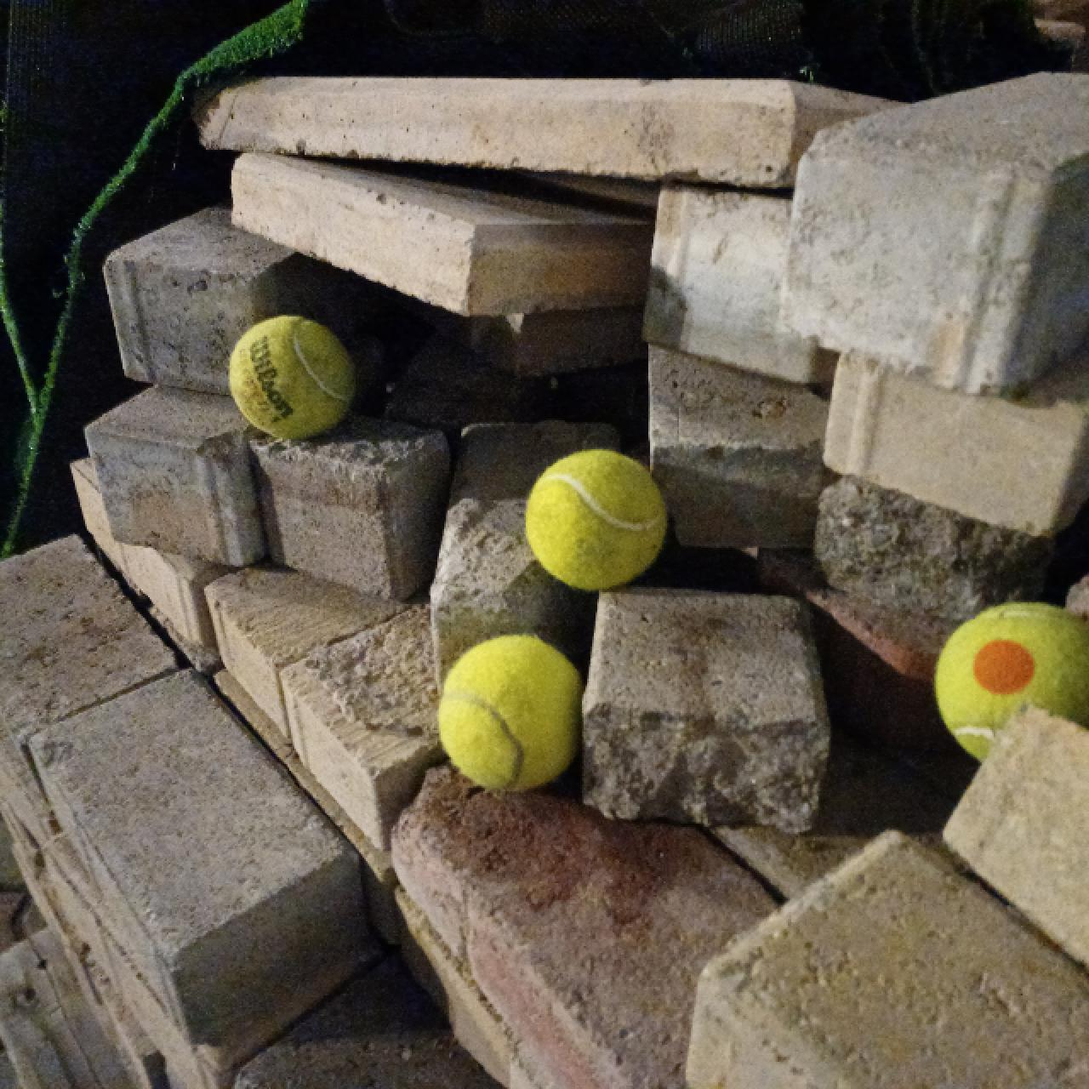tennis-ball: (933, 600, 1089, 774), (436, 631, 586, 794), (525, 449, 668, 589), (226, 315, 356, 438)
